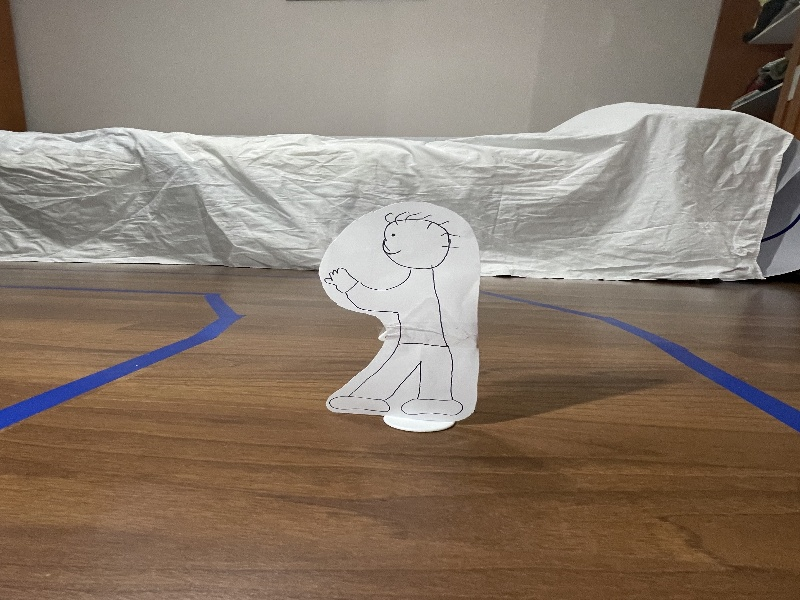persoana: (316, 189, 503, 445)
